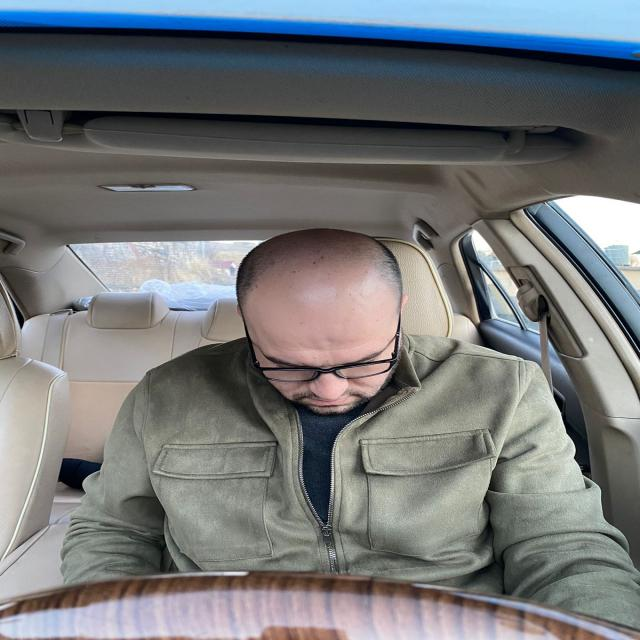drowsy: (234, 225, 416, 420)
